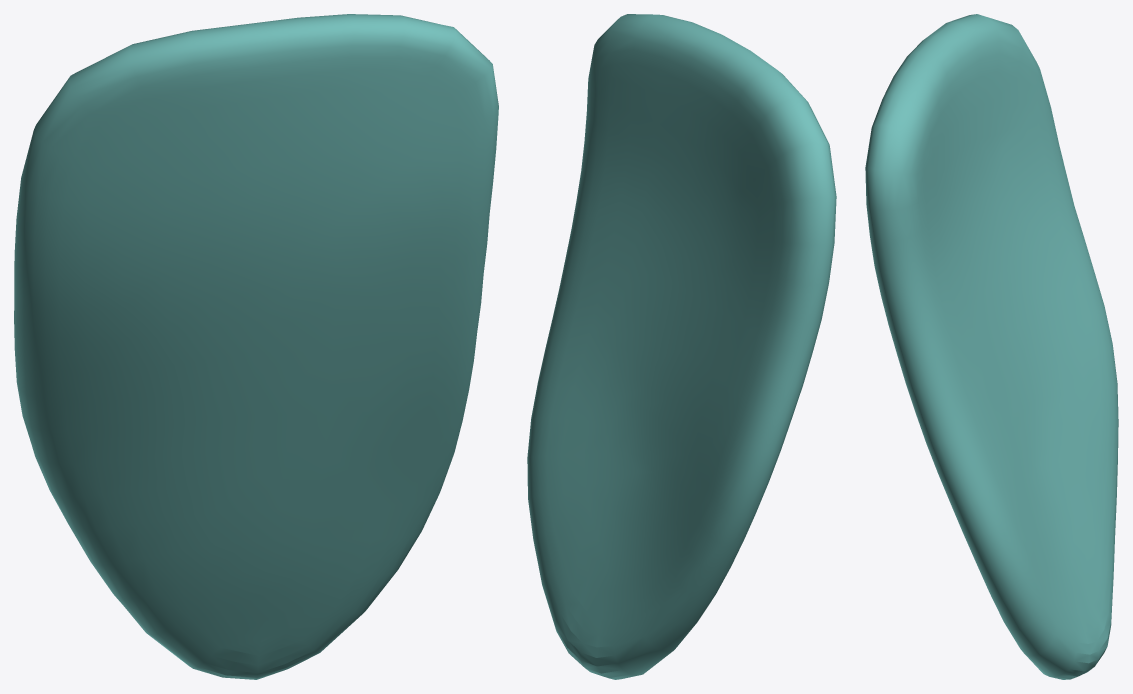
Rendered from BL2_Enamel_Diamond.001.glb.
3 views of the same model, side by side, from view 1: azimuth 30°, elevation 25°; view 2: azimuth 150°, elevation 25°; view 3: azimuth 270°, elevation 25° (orthographic). The views are drawn at different scales.
Parts seen in each view (by area): view 1: BL2_Enamel_Diamond.001; view 2: BL2_Enamel_Diamond.001; view 3: BL2_Enamel_Diamond.001.
Part boxes in pixels (bbox=[...]): BL2_Enamel_Diamond.001: bbox=[14, 14, 498, 679]; BL2_Enamel_Diamond.001: bbox=[527, 14, 836, 679]; BL2_Enamel_Diamond.001: bbox=[865, 14, 1118, 679].
Bounding box in the file's own units: 0.4625 × 0.8126 × 0.3085.
